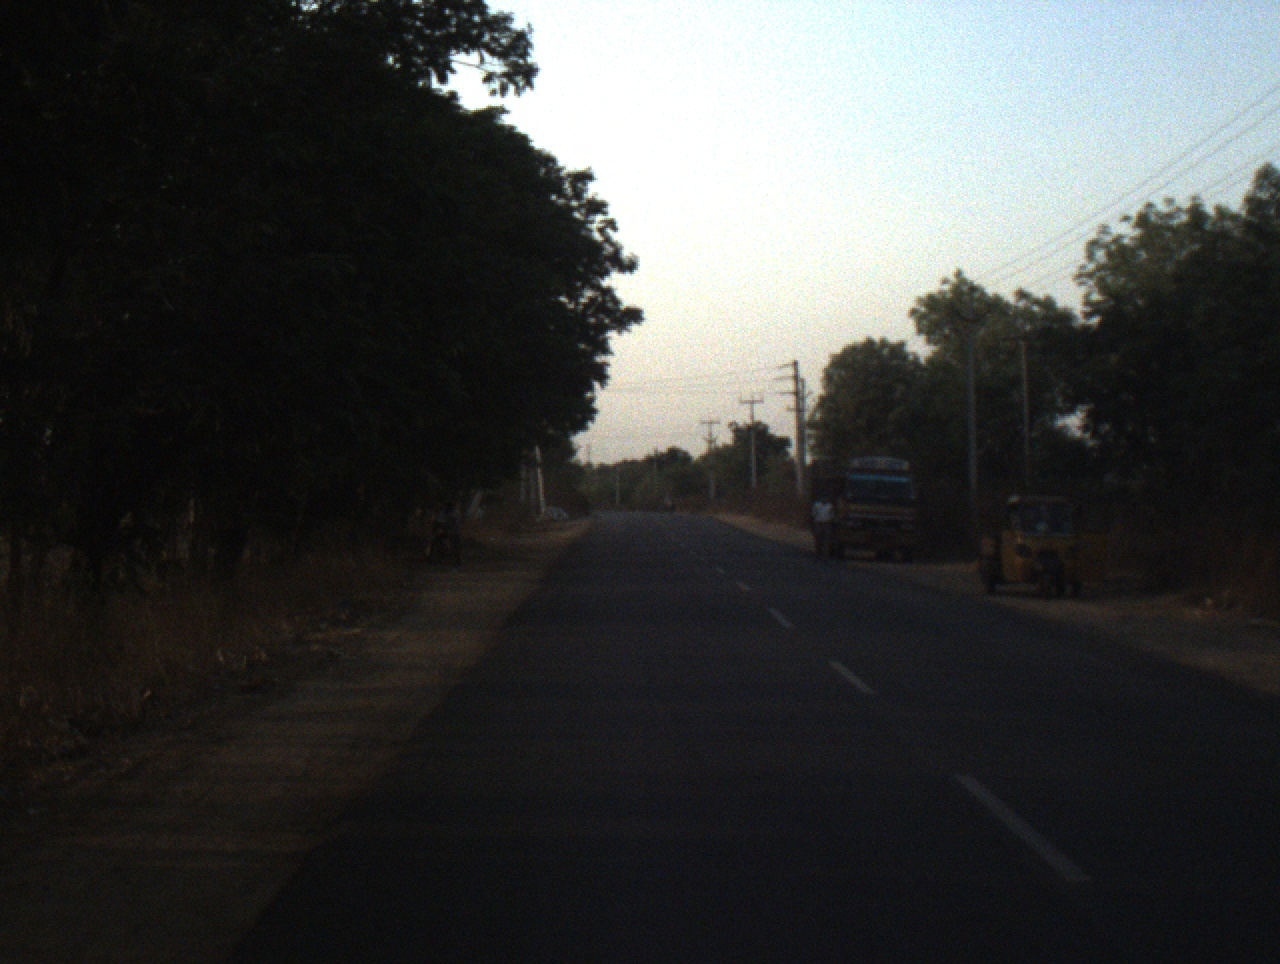autorickshaw: (971, 481, 1120, 604)
person: (808, 490, 837, 569)
truck: (804, 448, 924, 570)
vehicle fallback: (659, 489, 681, 514)
